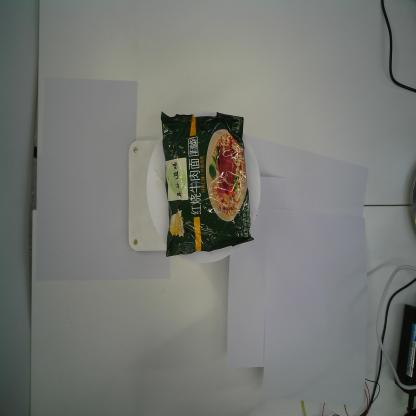Instant Noodles: (160, 110, 255, 258)
